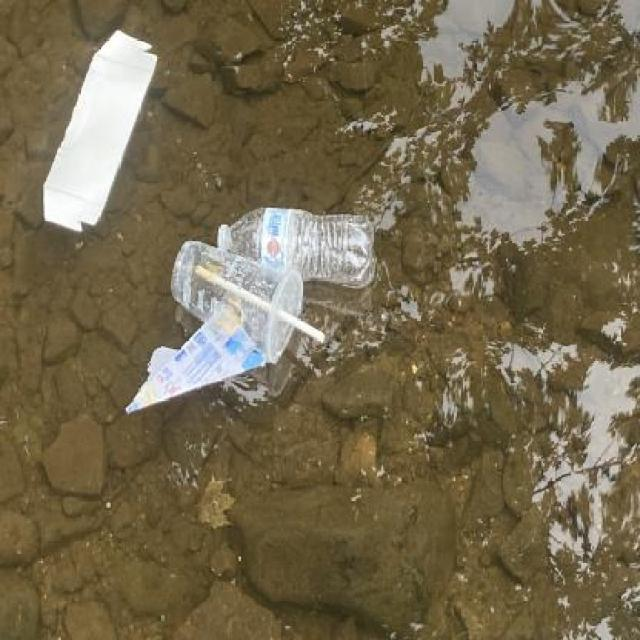Paper: (42, 27, 160, 236)
Plastic: (127, 239, 327, 410), (218, 205, 374, 287)
